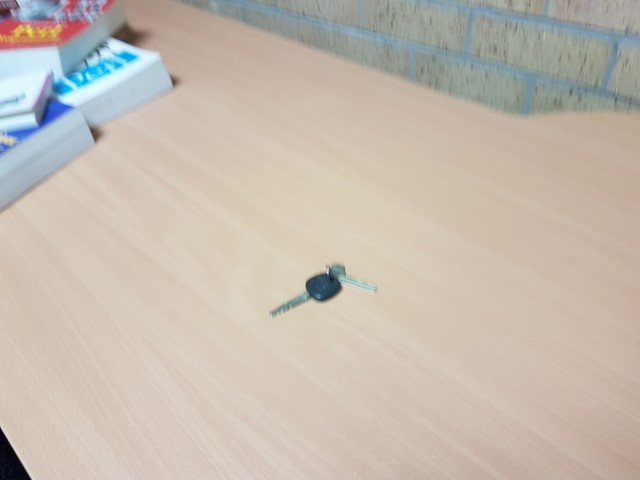key: (269, 274, 339, 317)
